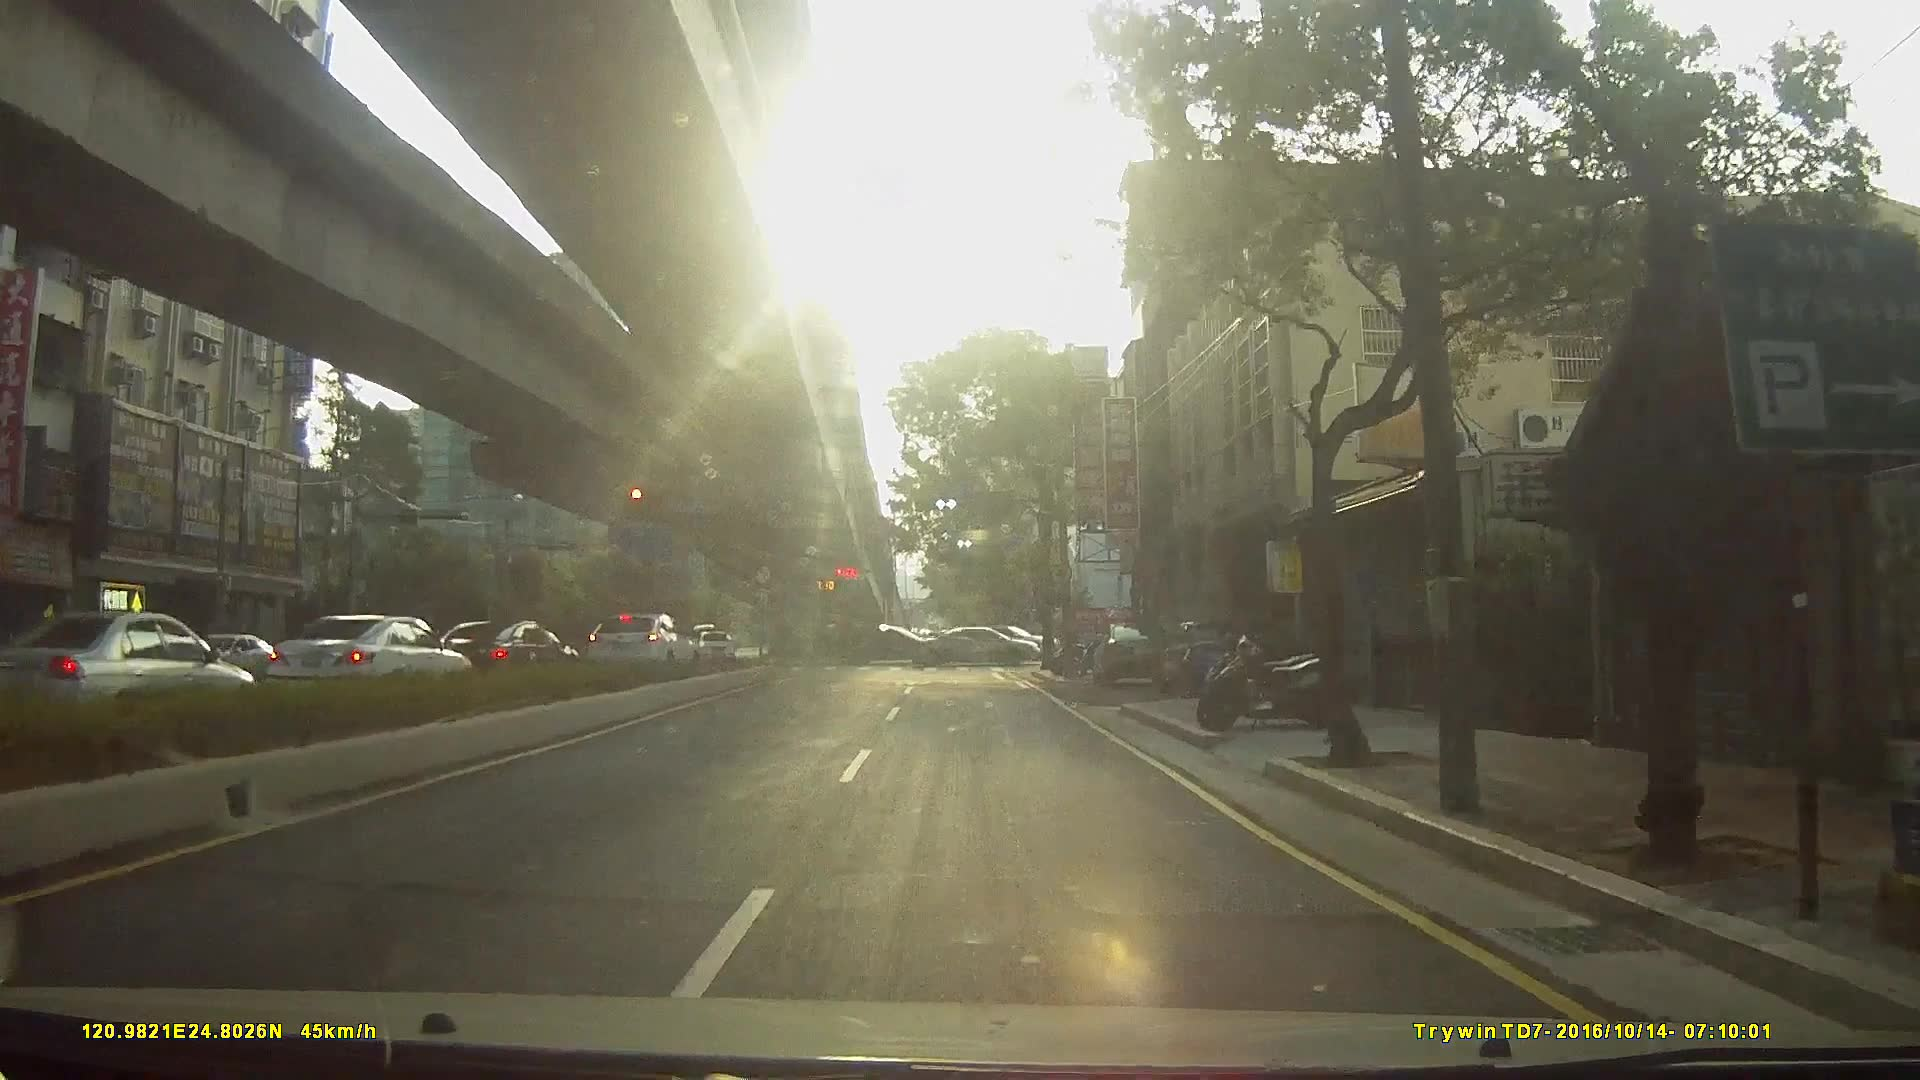vehicle: (1, 611, 258, 738), (252, 615, 467, 704), (419, 618, 575, 688), (1160, 622, 1255, 702), (582, 612, 699, 675), (1088, 621, 1175, 690), (914, 624, 1046, 665), (847, 622, 942, 666), (694, 629, 733, 665)
